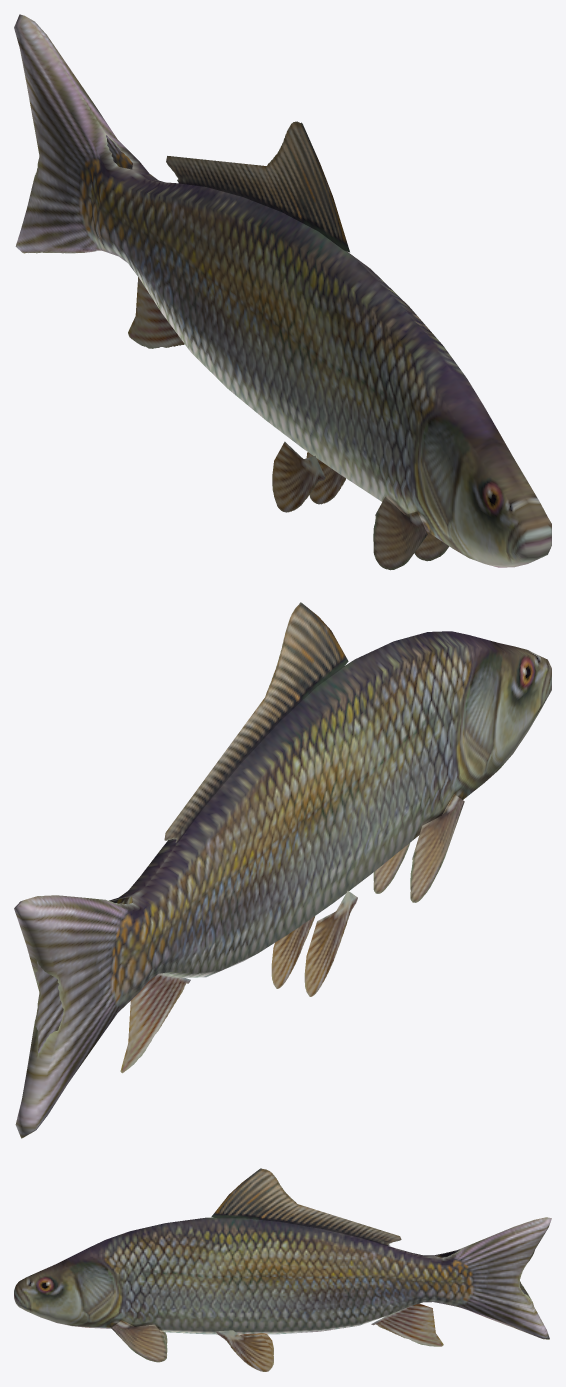
File: fish.obj
The picture shows the model from 3 angles, top to bottom: view 1: azimuth 30°, elevation 25°; view 2: azimuth 150°, elevation 25°; view 3: azimuth 270°, elevation 25°; orthographic projection. The views are drawn at different scales.
Parts seen in each view (by area): view 1: fish_Cube, fishTail; view 2: fish_Cube, fishTail; view 3: fish_Cube, fishTail.
Boxes of the visible parts, <box> form: fish_Cube: <box>101,121,551,570</box>; fishTail: <box>14,14,148,253</box>; fish_Cube: <box>117,602,551,1073</box>; fishTail: <box>14,895,144,1138</box>; fish_Cube: <box>14,1168,445,1371</box>; fishTail: <box>433,1217,551,1339</box>.
Bounding box in the file's own units: 0.2434 × 2.09 × 5.06.
Materials: 1 (1 with a texture image).
